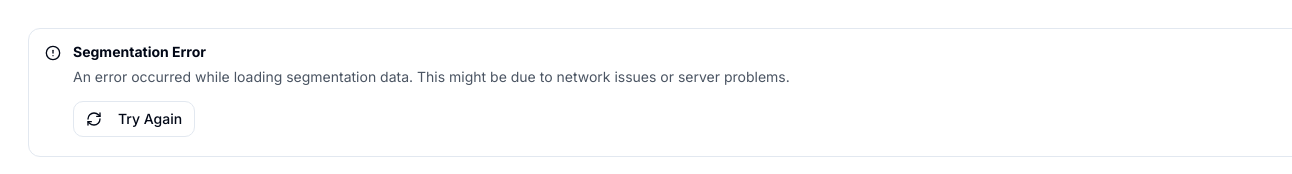
Test: SegmentationErrorBoundary › retry button › clicking retry shows children again when child stops throwing after reset
The width and height of the screenshot is (1292, 174).
Click the button: (134, 119) x1=73 y1=101 x2=195 y2=137
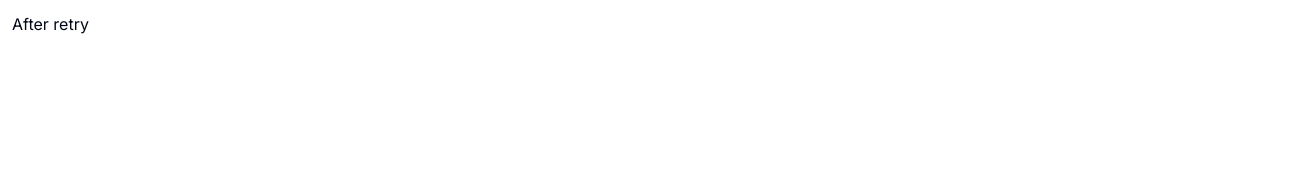
Now the text "After retry" is shown, box x1=12 y1=14 x2=89 y2=34
